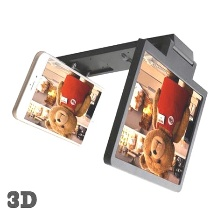phone: (9, 47, 110, 150)
